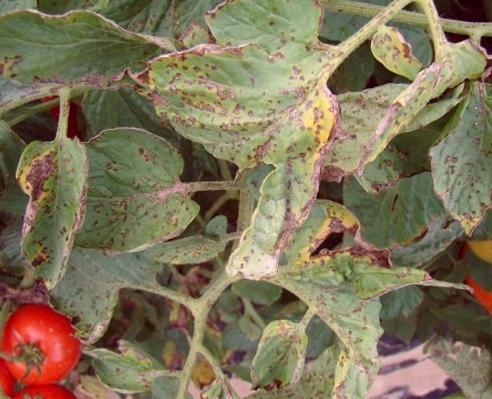Tomato leaf bacterial spot: (151, 0, 372, 270), (49, 121, 213, 259), (287, 237, 399, 399), (11, 128, 104, 298), (0, 9, 176, 95), (421, 66, 492, 245), (250, 320, 316, 399)
